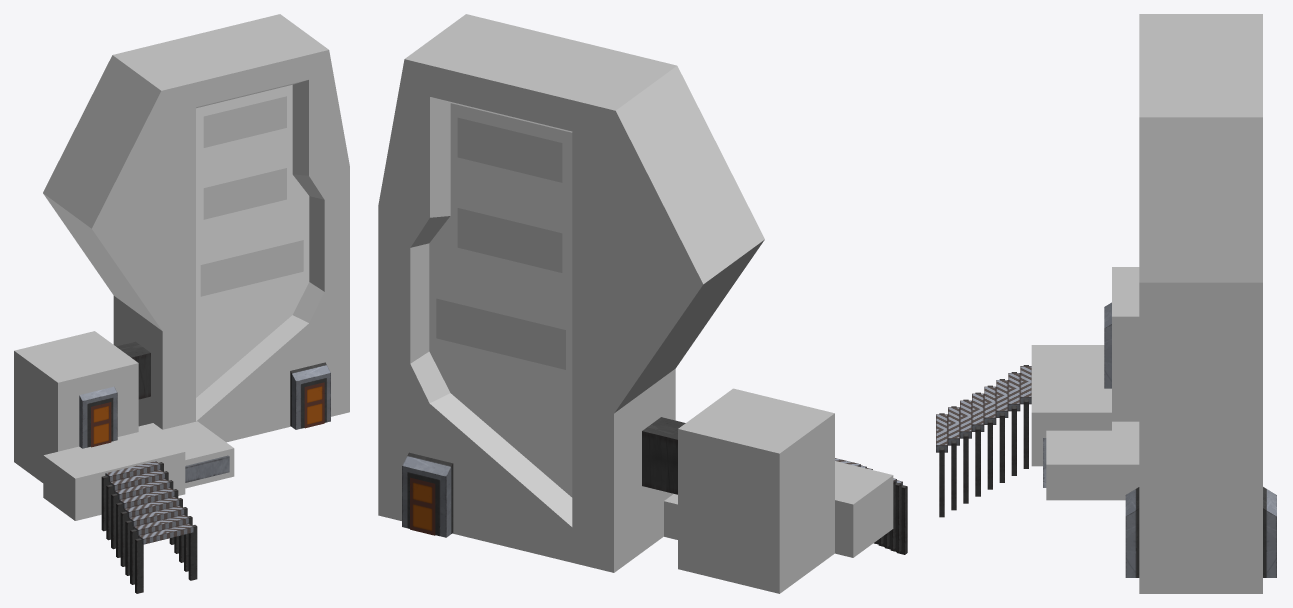
File: building3_4.fbx
3 renders of one model, left to right at view 1: azimuth 30°, elevation 25°; view 2: azimuth 150°, elevation 25°; view 3: azimuth 270°, elevation 25°, orthographic. The views are drawn at different scales.
Parts seen in each view (by area): view 1: Cube.018, Cube.001, 1.072, Cube.064, 1.064, 1.063, 1.069, 1.071, 1.070, 1.075, Cube.015, 1.074 (+2 smaller); view 2: Cube.018, Cube.001, 1.064, 1.063, 1.069, Cube.064, 1.070, 1.071, 1.075, 1.010, 1.072; view 3: Cube.018, 1.108, 1.107, Cube.064, 1.072, Cube.015, 1.063, Cube.001, 1.075, 1.074.
Boxes of the visible parts, bbox=[...] form: Cube.018: bbox=[43, 14, 349, 442]; Cube.001: bbox=[14, 331, 138, 482]; 1.072: bbox=[101, 461, 197, 593]; Cube.064: bbox=[43, 428, 185, 520]; 1.064: bbox=[58, 67, 149, 207]; 1.063: bbox=[155, 22, 301, 74]; 1.069: bbox=[200, 240, 303, 296]; 1.071: bbox=[203, 168, 286, 219]; 1.070: bbox=[203, 96, 286, 147]; 1.075: bbox=[290, 362, 330, 429]; Cube.015: bbox=[138, 421, 234, 488]; 1.074: bbox=[79, 386, 117, 448]; Cube.018: bbox=[378, 14, 764, 572]; Cube.001: bbox=[678, 388, 834, 593]; 1.064: bbox=[631, 81, 746, 257]; 1.063: bbox=[437, 25, 622, 91]; 1.069: bbox=[436, 298, 565, 369]; Cube.064: bbox=[835, 461, 893, 557]; 1.070: bbox=[457, 117, 562, 182]; 1.071: bbox=[457, 208, 562, 272]; 1.075: bbox=[402, 452, 453, 537]; 1.010: bbox=[642, 417, 685, 494]; 1.072: bbox=[835, 458, 907, 554]; Cube.018: bbox=[1139, 14, 1262, 593]; 1.108: bbox=[1160, 390, 1244, 540]; 1.107: bbox=[1162, 156, 1246, 242]; Cube.064: bbox=[1031, 345, 1111, 466]; 1.072: bbox=[936, 365, 1031, 517]; Cube.015: bbox=[1046, 421, 1139, 500]; 1.063: bbox=[1160, 34, 1244, 103]; Cube.001: bbox=[1112, 267, 1139, 421]; 1.075: bbox=[1125, 487, 1276, 577]; 1.074: bbox=[1104, 302, 1111, 388].
Bounding box in the file's own units: 611 × 772 × 451.
